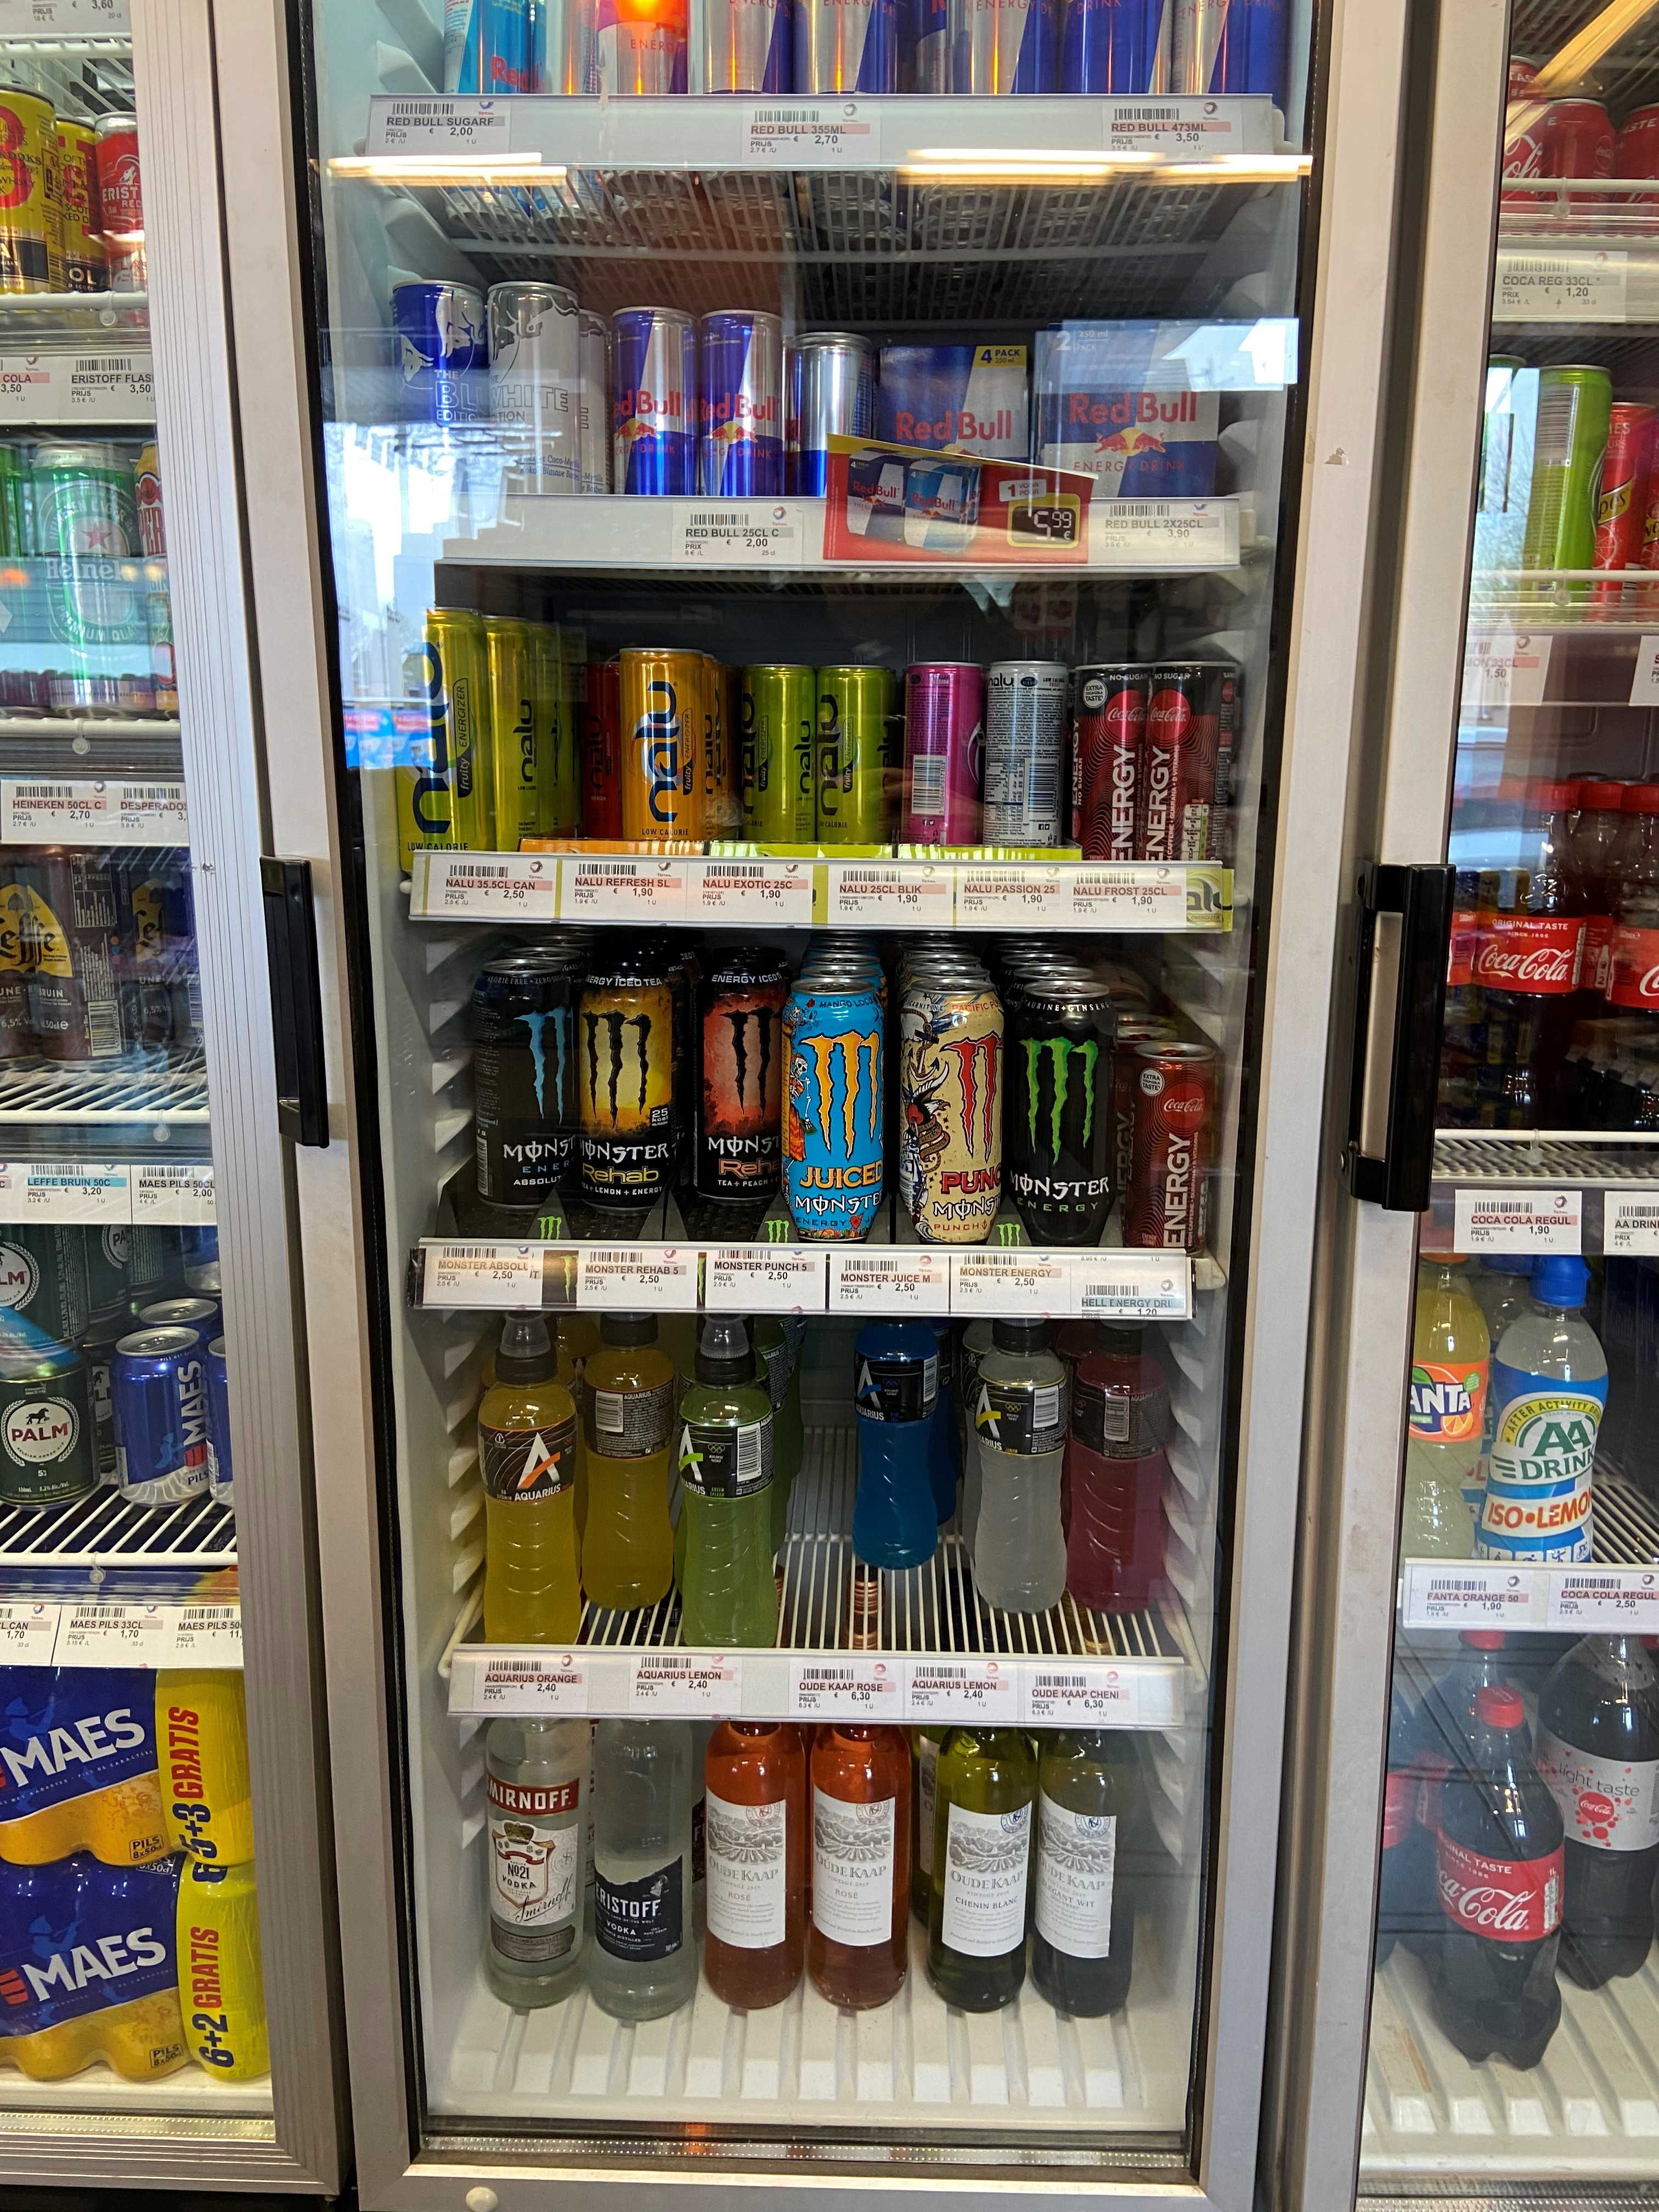AADrink: (1476, 1252, 1608, 1575)
AquariusBlueIceFles500ml: (849, 1287, 938, 1569)
AquariusGreenSplashFles500ml: (673, 1306, 777, 1653)
AquariusLemonFles500ml: (972, 1301, 1066, 1613)
AquariusOrangeFles: (472, 1308, 584, 1651), (577, 1278, 678, 1613)
AquariusRedPeachFles500ml: (1070, 1291, 1175, 1620)
CocaColaBlik33cl: (1537, 94, 1615, 270)
CocaColaEnergy250ml: (1122, 1042, 1222, 1263), (1145, 658, 1241, 878), (1072, 662, 1159, 864)
CocaColaFles1L: (1432, 1688, 1565, 2074)
CocaColaFles500ml: (1478, 780, 1591, 1151)
CocaColaLightFles1,5L: (1537, 1602, 1657, 2000)
EristoffRed: (92, 110, 166, 305)
EristoffVodka: (589, 1635, 695, 2020)
FantaOrangeFles500ml: (1396, 1235, 1492, 1571)
Heineken50cl: (30, 439, 150, 728)
JB: (0, 80, 59, 303)
LeffeBruinBlik: (30, 822, 138, 1073)
Maes33cl: (112, 1325, 213, 1507), (207, 1327, 270, 1514)
Maes8x50cl: (0, 1568, 281, 1865), (0, 1860, 279, 2080)
MonsterAbsolutelyZero500ml: (464, 956, 568, 1212)
MonsterMangoLoco500ml: (782, 975, 892, 1251)
MonsterOriginal500ml: (1004, 979, 1121, 1259)
MonsterPacificPunch: (896, 979, 1006, 1251)
MonsterTeaEnergy: (688, 944, 796, 1207)
MonsterTeaLemonEnergy: (573, 949, 685, 1214)
NaluExotic250ml: (617, 646, 706, 853)
NaluFrost250ml: (985, 662, 1072, 859)
NaluOriginal250ml: (742, 662, 821, 850), (817, 664, 890, 850)
NaluOriginal350ml: (383, 604, 498, 874), (1523, 362, 1608, 613)
NaluPassion250ml: (901, 660, 983, 857)
OudeKaapCheninBlanc: (1035, 1620, 1138, 2024), (932, 1618, 1032, 2012)
OudeKaapRose: (803, 1616, 911, 2013), (699, 1634, 803, 2010)
Palm: (0, 1339, 99, 1510)
RedBullBlue: (389, 277, 484, 517)
RedBullOriginalBlik2x250ml: (1033, 317, 1227, 514)
RedBullOriginalBlik355ml: (695, 307, 788, 510), (608, 307, 697, 507), (789, 329, 875, 514)
RedBullOriginalBlik4x250ml: (878, 340, 1033, 512)
RedBullSugarFree335ml: (444, 0, 533, 233)
RedBullWhite: (483, 280, 579, 507)
Smirnoff: (483, 1637, 591, 2013)
